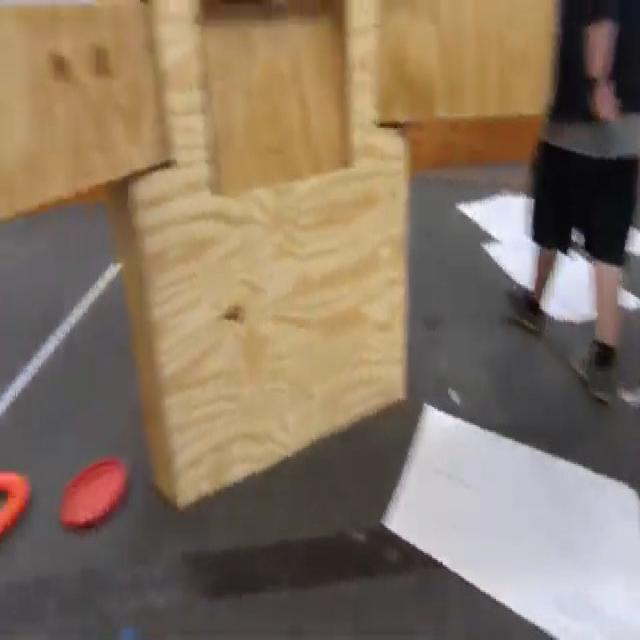note: (0, 466, 34, 540)
